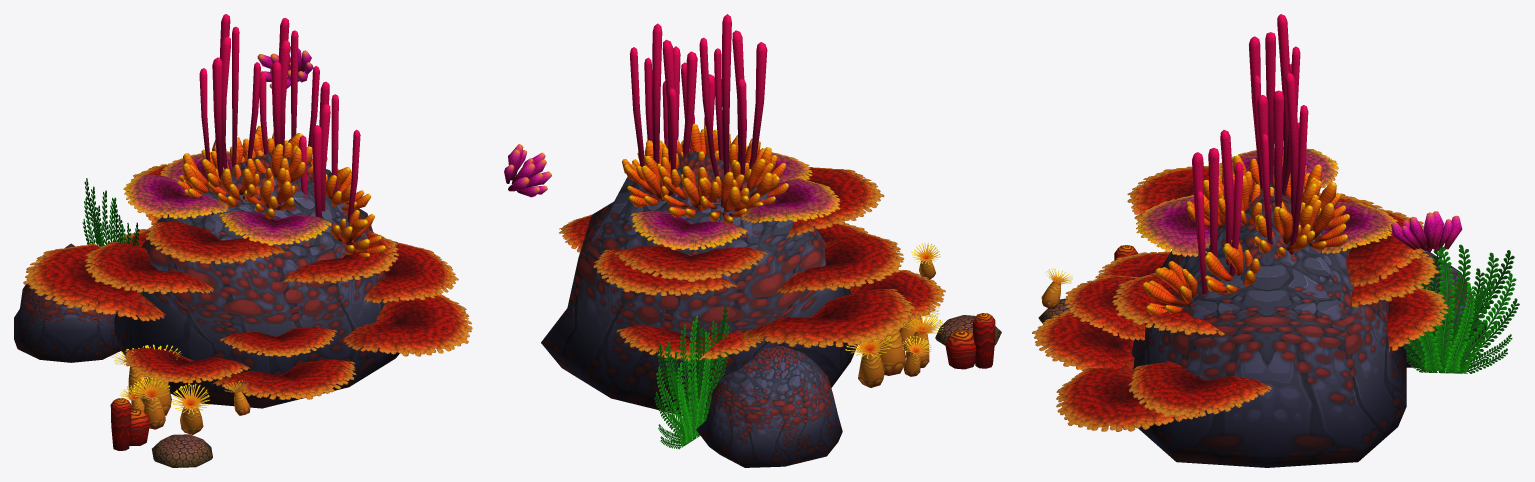
File: CoralSet_08.FBX
3 renders of one model, left to right at view 1: azimuth 30°, elevation 25°; view 2: azimuth 150°, elevation 25°; view 3: azimuth 270°, elevation 25°, orthographic. The views are drawn at different scales.
Parts seen in each view (by area): view 1: Plane188, Box006, Line173, Line283, Line245, Plane346, Sphere058, Sphere060, Line223; view 2: Box006, Plane188, Line173, Line283, Plane346, Line245, Sphere060, Line223, Sphere058; view 3: Box006, Plane188, Line173, Line283, Plane346, Line223, Line245.
Part boxes in pixels (x1,y1,x2,y2): Plane188: (23, 151, 472, 399); Box006: (14, 152, 399, 408); Line173: (199, 14, 360, 222); Line283: (177, 125, 385, 256); Line245: (111, 344, 250, 434); Plane346: (82, 178, 139, 246); Sphere058: (152, 434, 212, 467); Sphere060: (110, 398, 150, 450); Line223: (257, 46, 313, 88); Box006: (541, 150, 857, 467); Plane188: (559, 152, 945, 361); Line173: (630, 14, 767, 190); Line283: (622, 123, 788, 225); Plane346: (654, 304, 729, 449); Line245: (845, 243, 943, 387); Sphere060: (945, 313, 995, 369); Line223: (504, 144, 551, 197); Sphere058: (935, 315, 1001, 345); Box006: (1132, 183, 1486, 467); Plane188: (1032, 147, 1448, 431); Line173: (1192, 14, 1308, 294); Line283: (1142, 149, 1349, 315); Plane346: (1404, 244, 1519, 373); Line223: (1391, 211, 1462, 252); Line245: (1041, 268, 1072, 308).
Size of the model in its own units: 15240 by 13462 by 15530.
